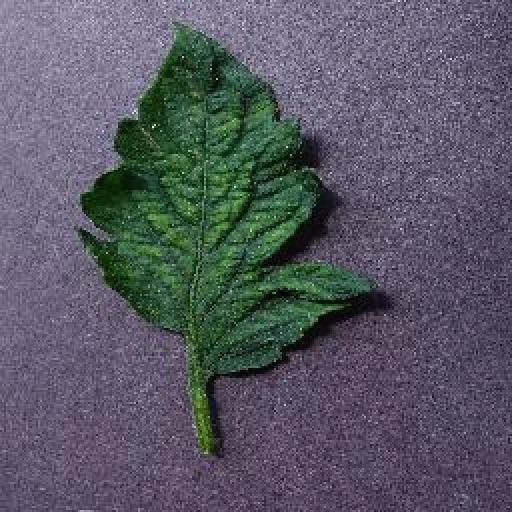disease_tomato: (74, 18, 378, 376)
